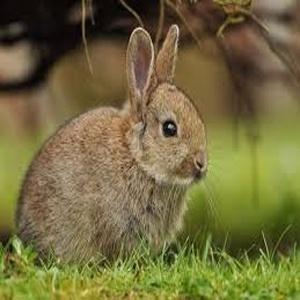rabbit: (15, 25, 207, 267)
